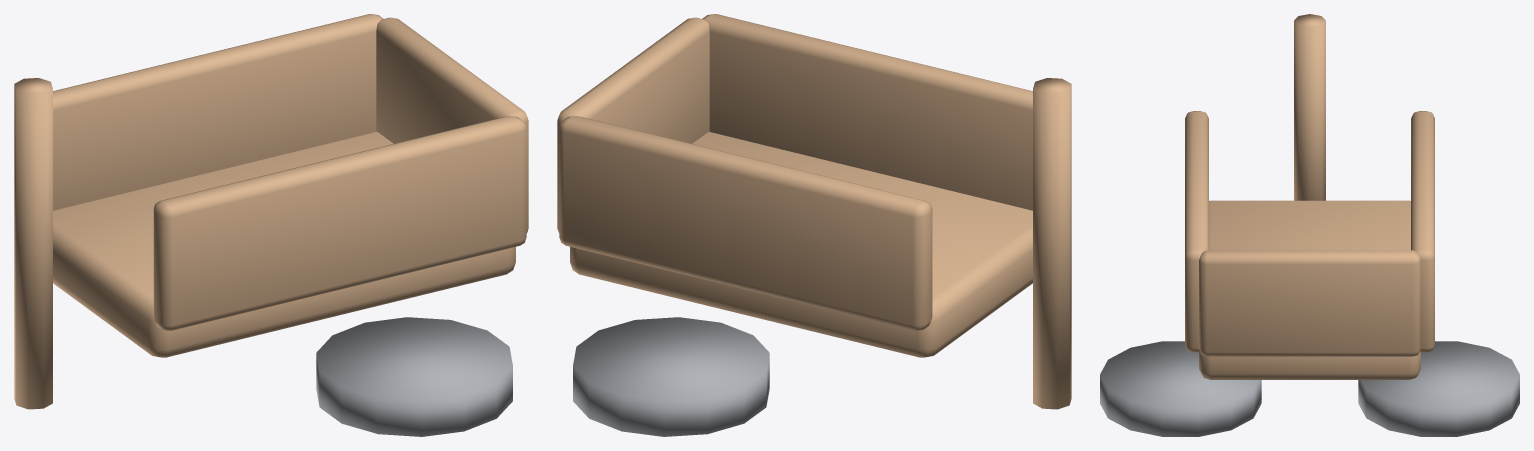
The model's file is cozy_cart_A.glb.
The picture shows the model from 3 angles, left to right: view 1: azimuth 30°, elevation 25°; view 2: azimuth 150°, elevation 25°; view 3: azimuth 270°, elevation 25°; orthographic projection. The views are drawn at different scales.
Visible parts, largest first — view 1: SideR, SideL, Bed, Wheel_-0.32, Pole, Front; view 2: SideL, SideR, Bed, Wheel_0.32, Pole, Front; view 3: Front, Bed, Wheel_0.32, Wheel_-0.32, Pole, SideL, SideR.
Boxes of the visible parts, x1,y1,x2,y2 form: SideR: (153,116,526,330); SideL: (53,14,383,210); Bed: (53,132,515,357); Wheel_-0.32: (316,317,512,436); Pole: (14,78,52,409); Front: (376,17,528,233); SideL: (559,116,932,330); SideR: (702,14,1032,210); Bed: (570,132,1032,357); Wheel_0.32: (573,317,769,436); Pole: (1033,78,1071,409); Front: (557,17,709,233); Front: (1199,250,1420,356); Bed: (1199,200,1420,379); Wheel_0.32: (1358,341,1519,436); Wheel_-0.32: (1100,341,1261,436); Pole: (1294,14,1325,200); SideL: (1411,111,1434,352); SideR: (1185,111,1208,352).
Bounding box in the file's own units: 1.04 × 0.72 × 1.04.
